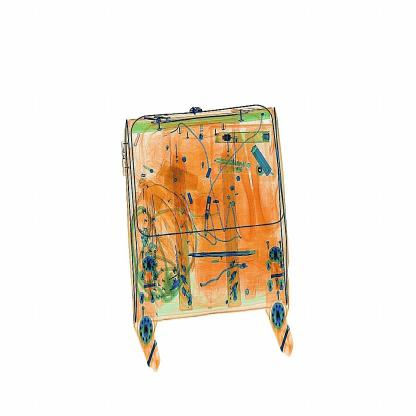pliers: (189, 247, 258, 265)
